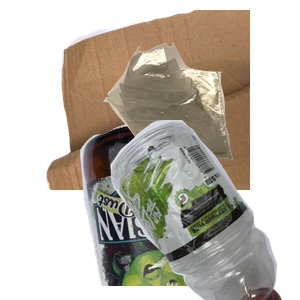cardboard: (43, 10, 283, 190)
glass: (78, 120, 281, 300)
plastic: (73, 120, 300, 300)
trash: (101, 40, 300, 192)
